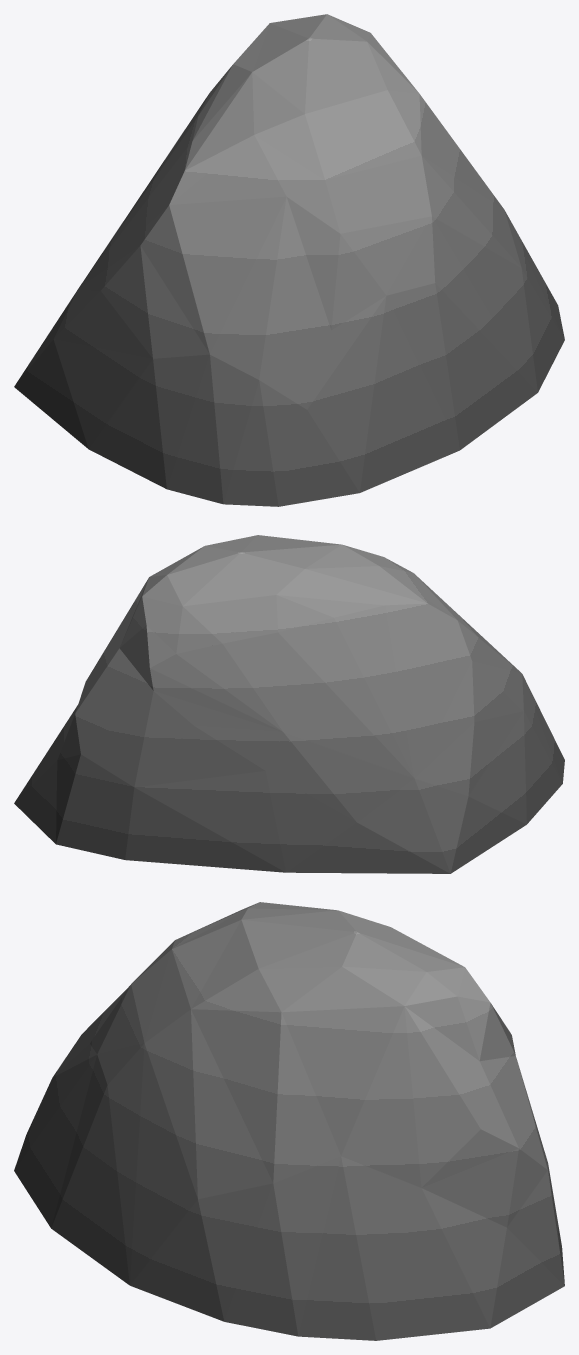
The model's file is Prefab_Rock_D.glb.
The picture shows the model from 3 angles, top to bottom: view 1: azimuth 30°, elevation 25°; view 2: azimuth 150°, elevation 25°; view 3: azimuth 270°, elevation 25°; orthographic projection. The views are drawn at different scales.
Parts seen in each view (by area): view 1: ROCK_B; view 2: ROCK_B; view 3: ROCK_B.
Part boxes in pixels (x1=…): ROCK_B: x1=14, y1=14, x2=564, y2=506; ROCK_B: x1=14, y1=535, x2=564, y2=873; ROCK_B: x1=14, y1=902, x2=564, y2=1340.
Bounding box in the file's own units: 1.52 × 0.8555 × 1.44.
1 material, 1 textured.
